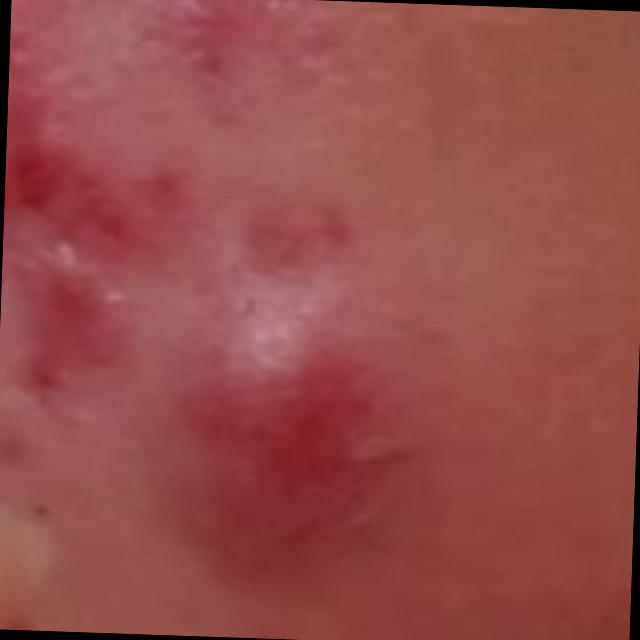blackhead: (30, 502, 48, 520)
nodule: (180, 311, 372, 468)
